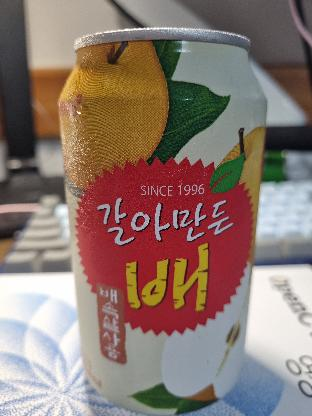Can: (50, 27, 272, 415)
